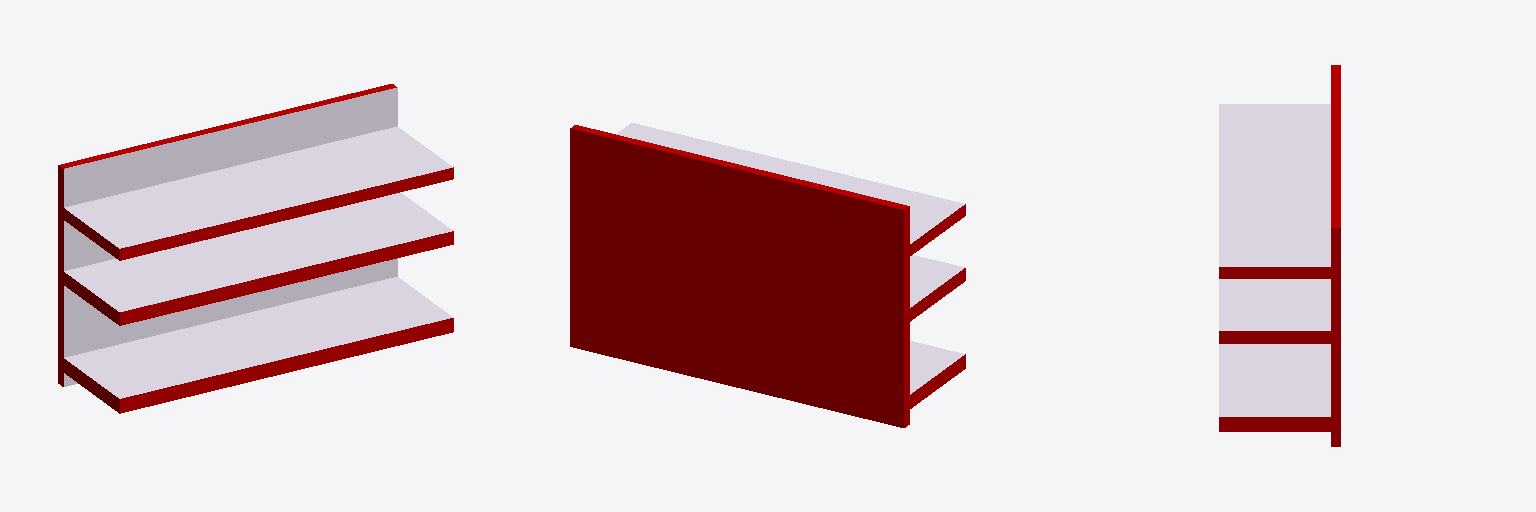
The model's file is boiseShelf_OBJ.obj.
3 renders of one model, left to right at view 1: azimuth 30°, elevation 25°; view 2: azimuth 150°, elevation 25°; view 3: azimuth 270°, elevation 25°, orthographic.
Parts seen in each view (by area): view 1: Cube.001; view 2: Cube.001; view 3: Cube.001.
Boxes of the visible parts, box(x1,y1,x2,y2) form: Cube.001: box(58, 84, 453, 413); Cube.001: box(570, 123, 965, 427); Cube.001: box(1219, 65, 1340, 446).
Size of the model in its own units: 5.34 by 3.34 by 1.7.